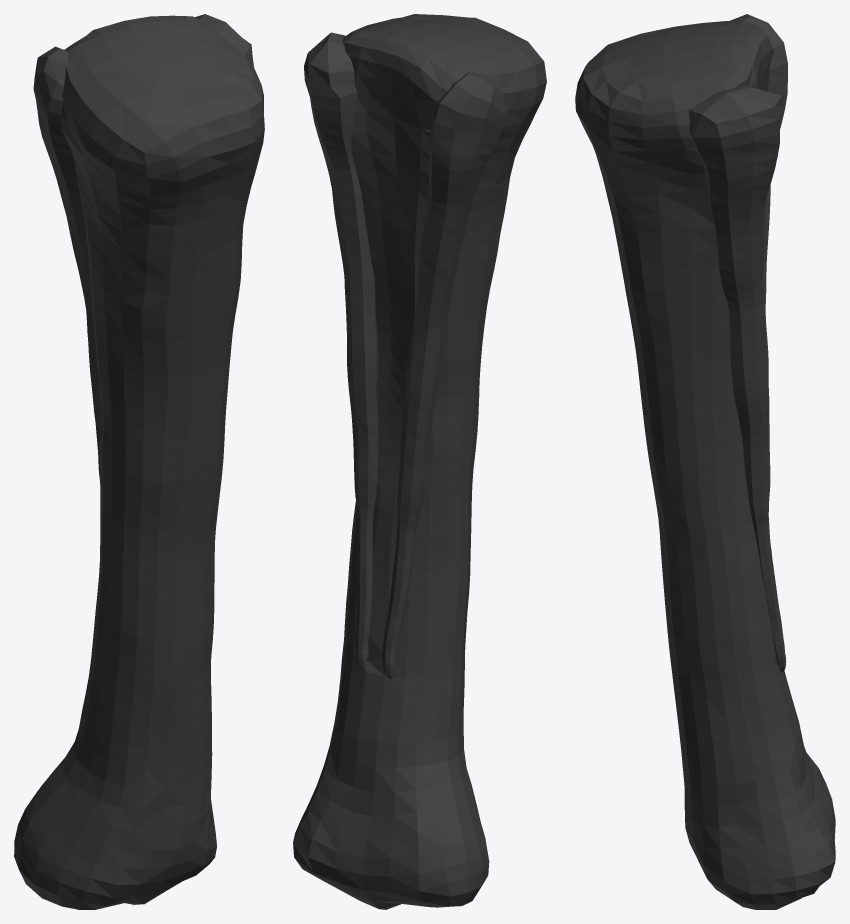
File: Metatarsal_L.glb
3 renders of one model, left to right at view 1: azimuth 30°, elevation 25°; view 2: azimuth 150°, elevation 25°; view 3: azimuth 270°, elevation 25°, orthographic. The views are drawn at different scales.
Visible parts, largest first — view 1: Metatarsal_L; view 2: Metatarsal_L; view 3: Metatarsal_L.
Part boxes in pixels (left/top/right/bottom): Metatarsal_L: left=14, top=14, right=264, bottom=909; Metatarsal_L: left=293, top=14, right=546, bottom=909; Metatarsal_L: left=575, top=14, right=835, bottom=909.
Bounding box in the file's own units: 0.0949 × 0.3968 × 0.1092.
Materials: 1 (1 with a texture image).
